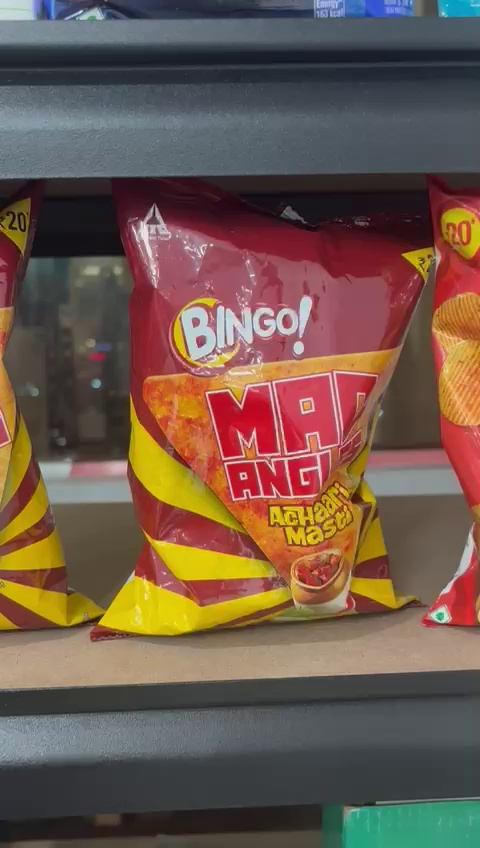Bingo Mad Angles: (116, 192, 401, 630)
